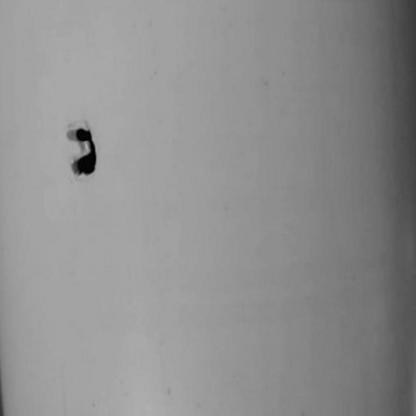kongdong: (59, 117, 119, 188)
